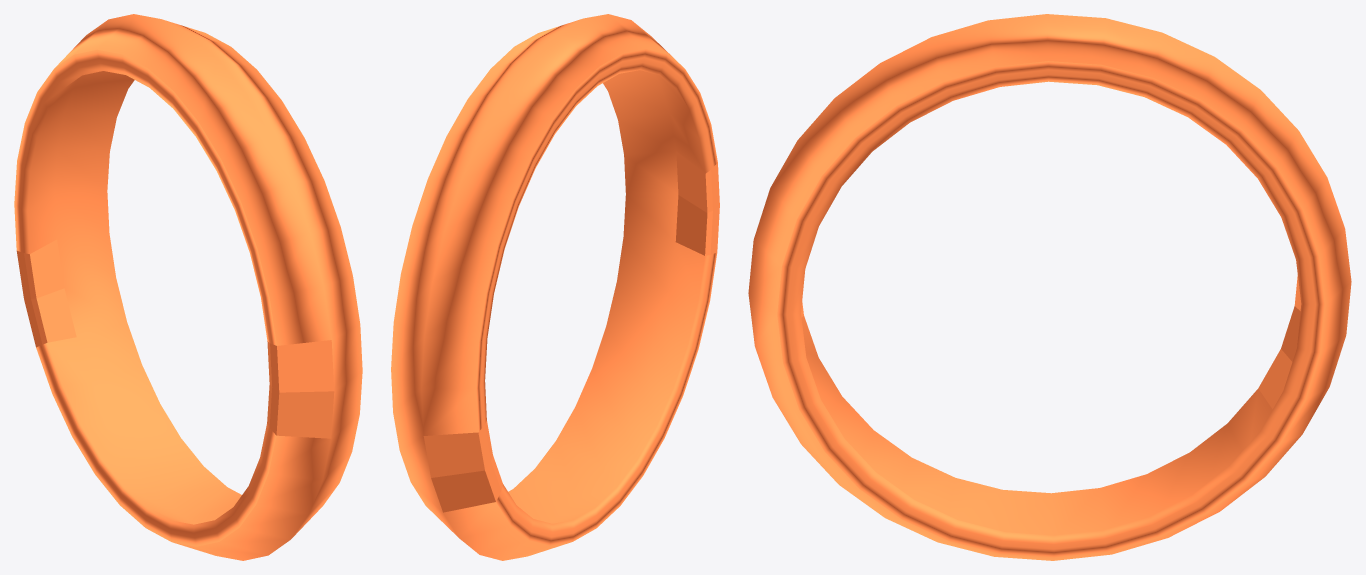
The model's file is one_ring.glb.
The picture shows the model from 3 angles, left to right: view 1: azimuth 30°, elevation 25°; view 2: azimuth 150°, elevation 25°; view 3: azimuth 270°, elevation 25°; orthographic projection. The views are drawn at different scales.
Parts seen in each view (by area): view 1: Cylinder; view 2: Cylinder; view 3: Cylinder.
Boxes of the visible parts, x1,y1,x2,y2 form: Cylinder: (14, 14, 362, 560); Cylinder: (391, 14, 719, 560); Cylinder: (748, 14, 1351, 560).
Size of the model in its own units: 0.8335 by 4.27 by 4.27.
